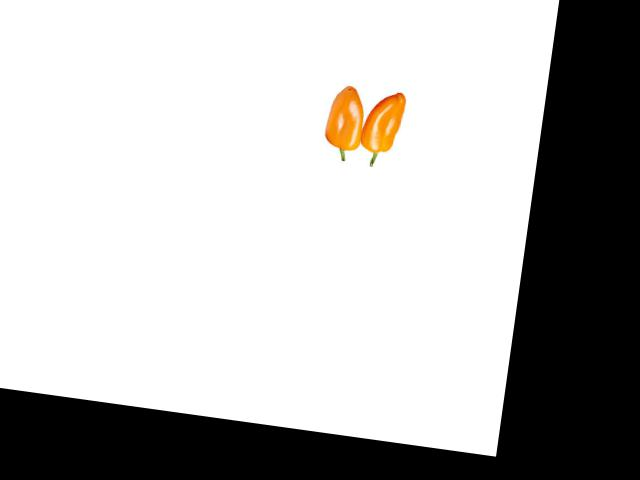bell_pepper: (313, 67, 371, 164)
